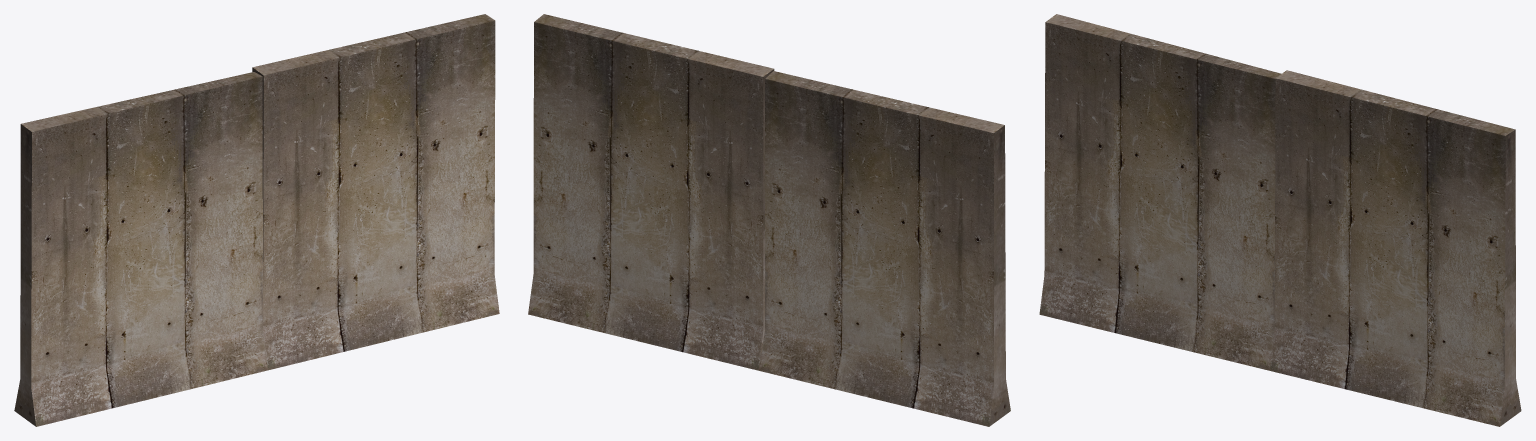
Rendered from wall3.fbx.
The picture shows the model from 3 angles, left to right: view 1: azimuth 30°, elevation 25°; view 2: azimuth 150°, elevation 25°; view 3: azimuth 330°, elevation 25°; orthographic projection.
Parts seen in each view (by area): view 1: wall3; view 2: wall3; view 3: wall3.
Boxes of the visible parts, <box> form: wall3: <box>14,14,499,426</box>; wall3: <box>528,14,1010,426</box>; wall3: <box>1039,14,1521,426</box>.
Bounding box in the file's own units: 289 × 23.57 × 173.
